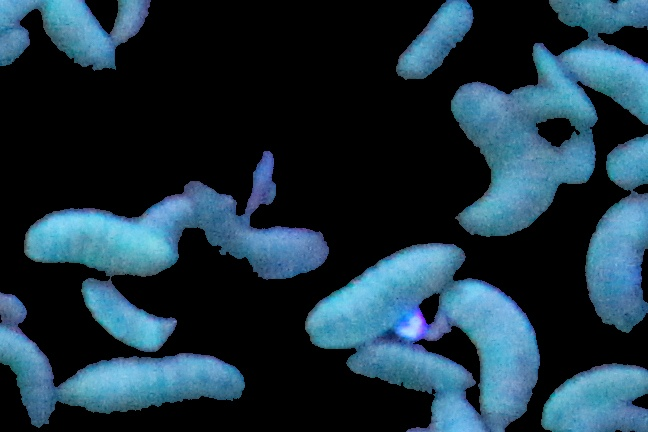larvae: (303, 245, 467, 351), (448, 84, 559, 238), (444, 278, 539, 428), (187, 184, 324, 278), (54, 356, 251, 414), (27, 212, 168, 278), (582, 196, 648, 328), (559, 37, 648, 129), (74, 280, 177, 350), (539, 363, 647, 429), (345, 342, 473, 392), (395, 1, 474, 81), (1, 325, 53, 431), (36, 1, 114, 71), (531, 45, 596, 124), (562, 399, 648, 432)
